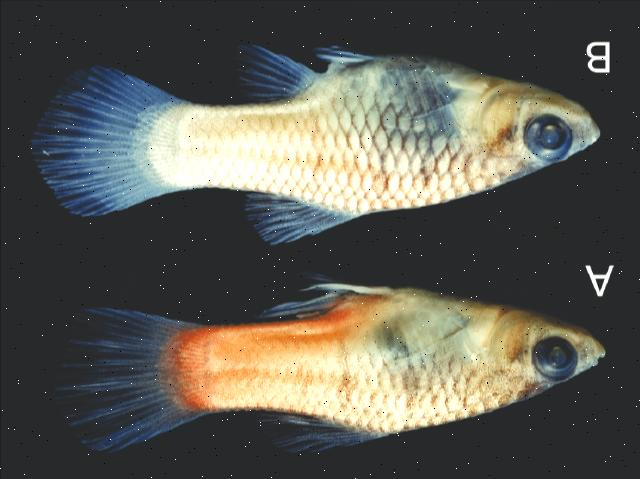Mulut: (548, 71, 616, 170), (566, 315, 620, 385)
Sirip Anal: (218, 31, 318, 113), (252, 280, 336, 334)
Sirip Dada: (361, 97, 463, 176), (371, 324, 473, 402)
Sirip Ekor: (37, 287, 203, 465), (18, 50, 180, 226)
Sirip Perut: (304, 266, 392, 306), (306, 38, 380, 76)
Sirip Punggung: (222, 172, 354, 252), (250, 396, 374, 466)
